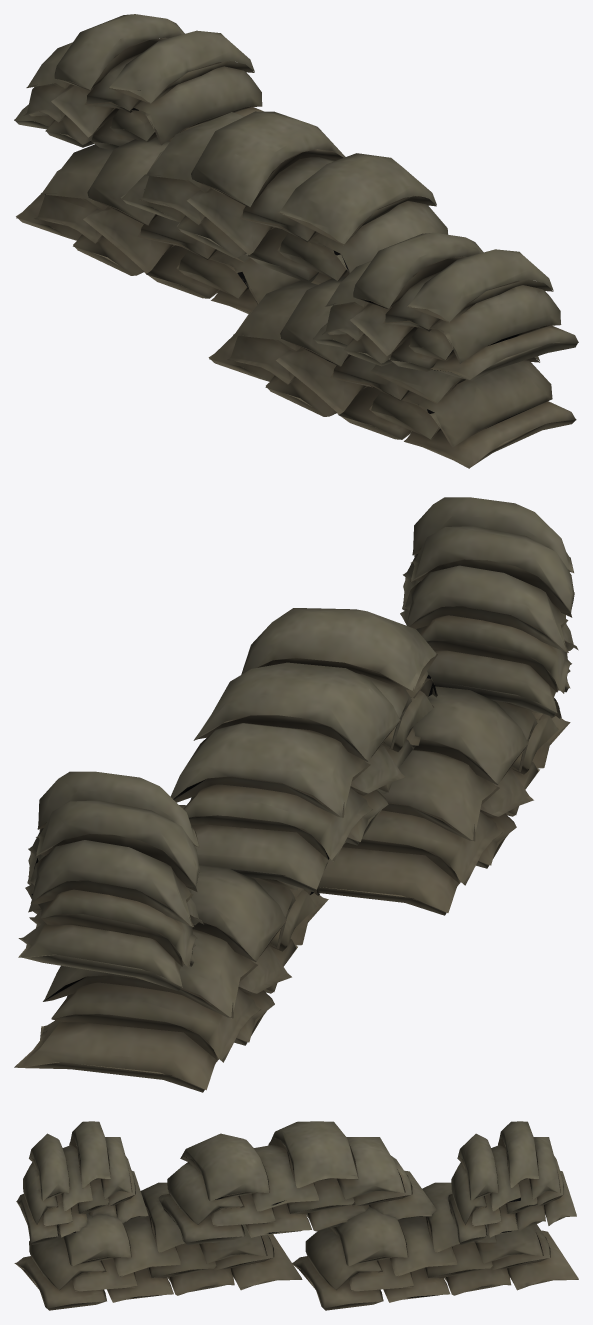
Rendered from sbag-segment.glb.
The picture shows the model from 3 angles, top to bottom: view 1: azimuth 30°, elevation 25°; view 2: azimuth 150°, elevation 25°; view 3: azimuth 270°, elevation 25°; orthographic projection. The views are drawn at different scales.
Visible parts, largest first — view 1: hull; view 2: hull; view 3: hull.
Part boxes in pixels (bbox=[...]): hull: bbox=[14, 14, 578, 468]; hull: bbox=[14, 497, 578, 1092]; hull: bbox=[14, 1121, 578, 1310].
Bounding box in the file's own units: 1.27 × 1.14 × 4.09.
Materials: 1 (1 with a texture image).
